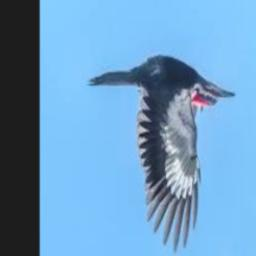Woodpecker: (87, 56, 236, 254)
